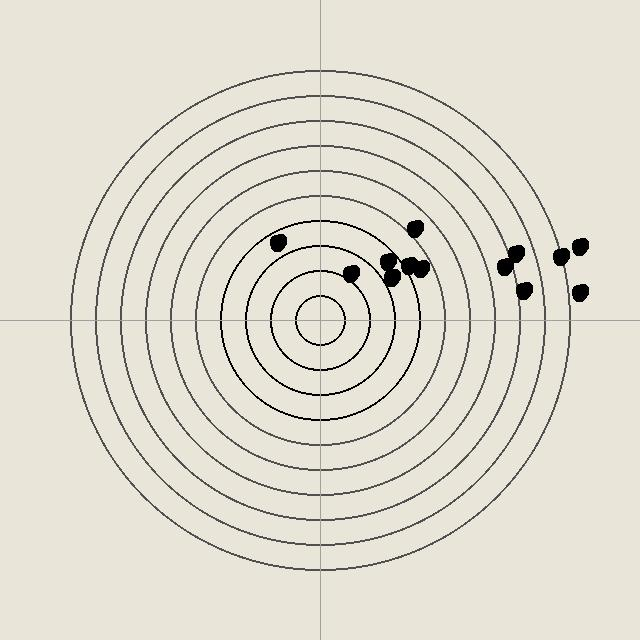horizontal_scatter: (340, 263, 360, 283), (513, 280, 533, 300), (494, 256, 514, 276), (377, 251, 397, 271), (550, 246, 570, 266), (505, 243, 525, 263), (410, 258, 430, 278), (404, 218, 424, 238), (381, 267, 401, 287), (267, 232, 287, 252), (398, 255, 418, 275), (569, 282, 589, 302), (569, 236, 589, 256)
